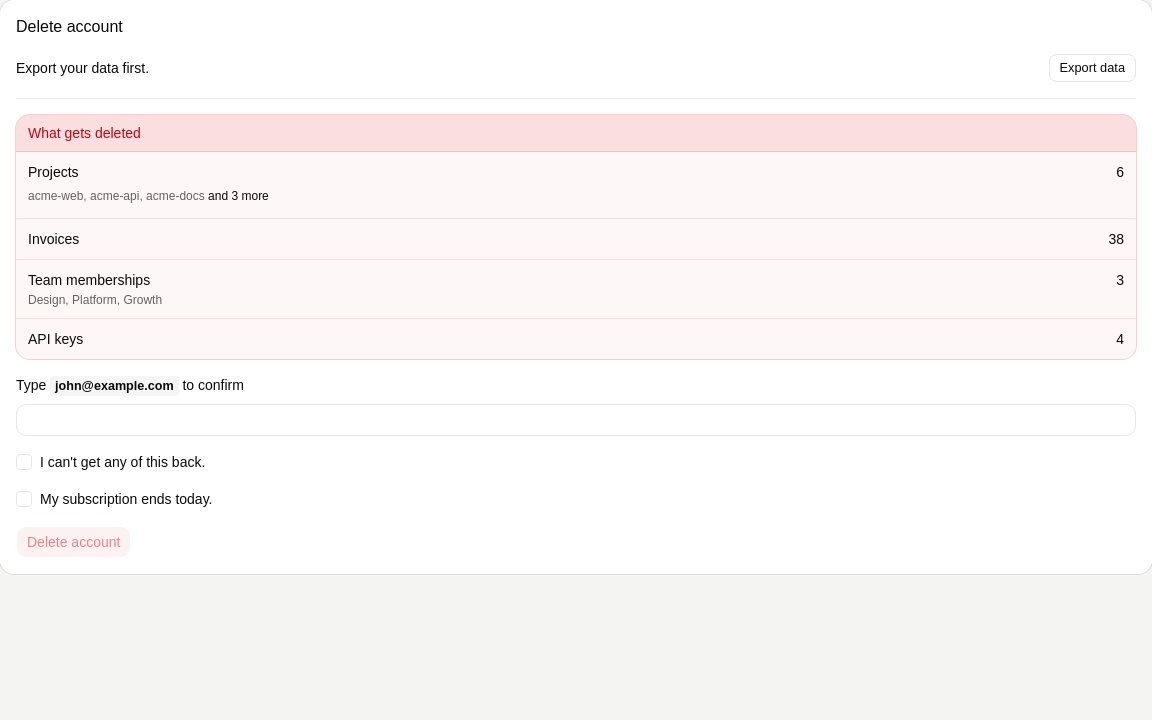
delete-account-01 › starts an export without touching the account
Click the button "Export data".
click(1092, 68)  # box [1048,54,1136,82]
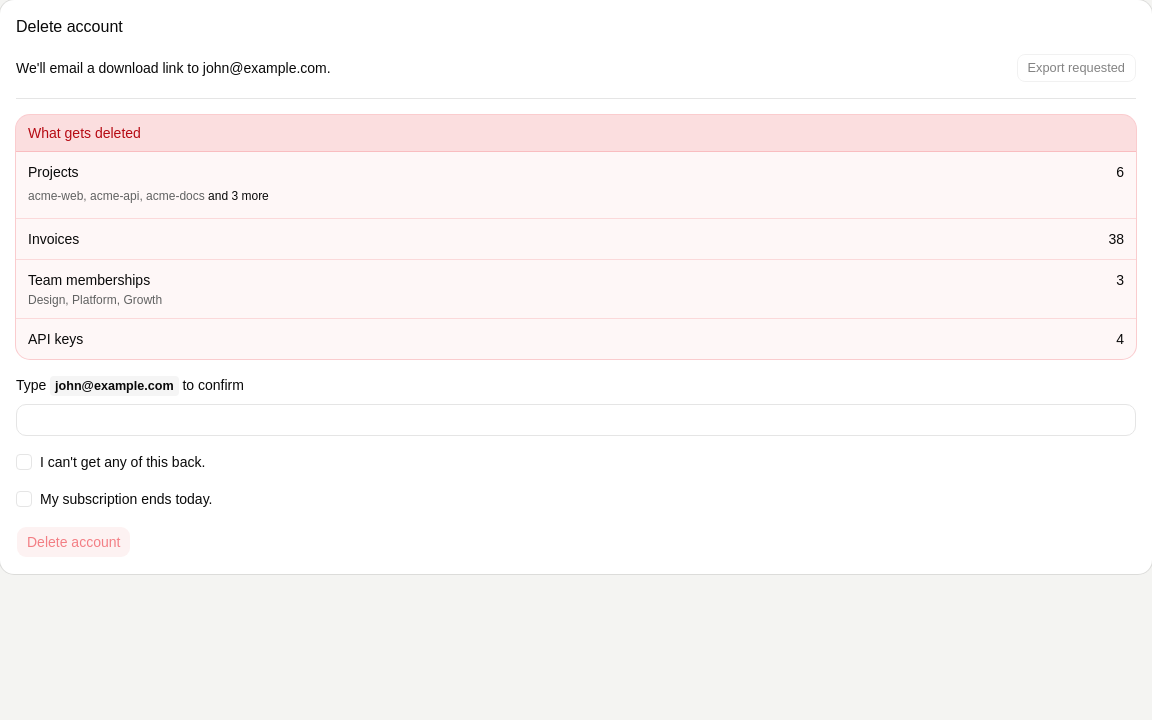
Expected: the button "Delete account" is shown, [16,526,131,558]
Expected: the button "Export requested" is shown, [1016,54,1136,82]
